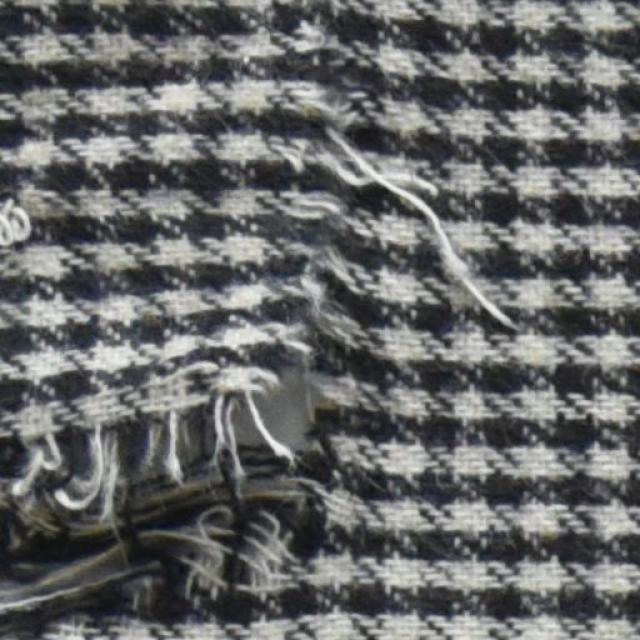Hole: (261, 366, 321, 457)
Snag: (0, 378, 319, 631), (309, 105, 525, 337)
